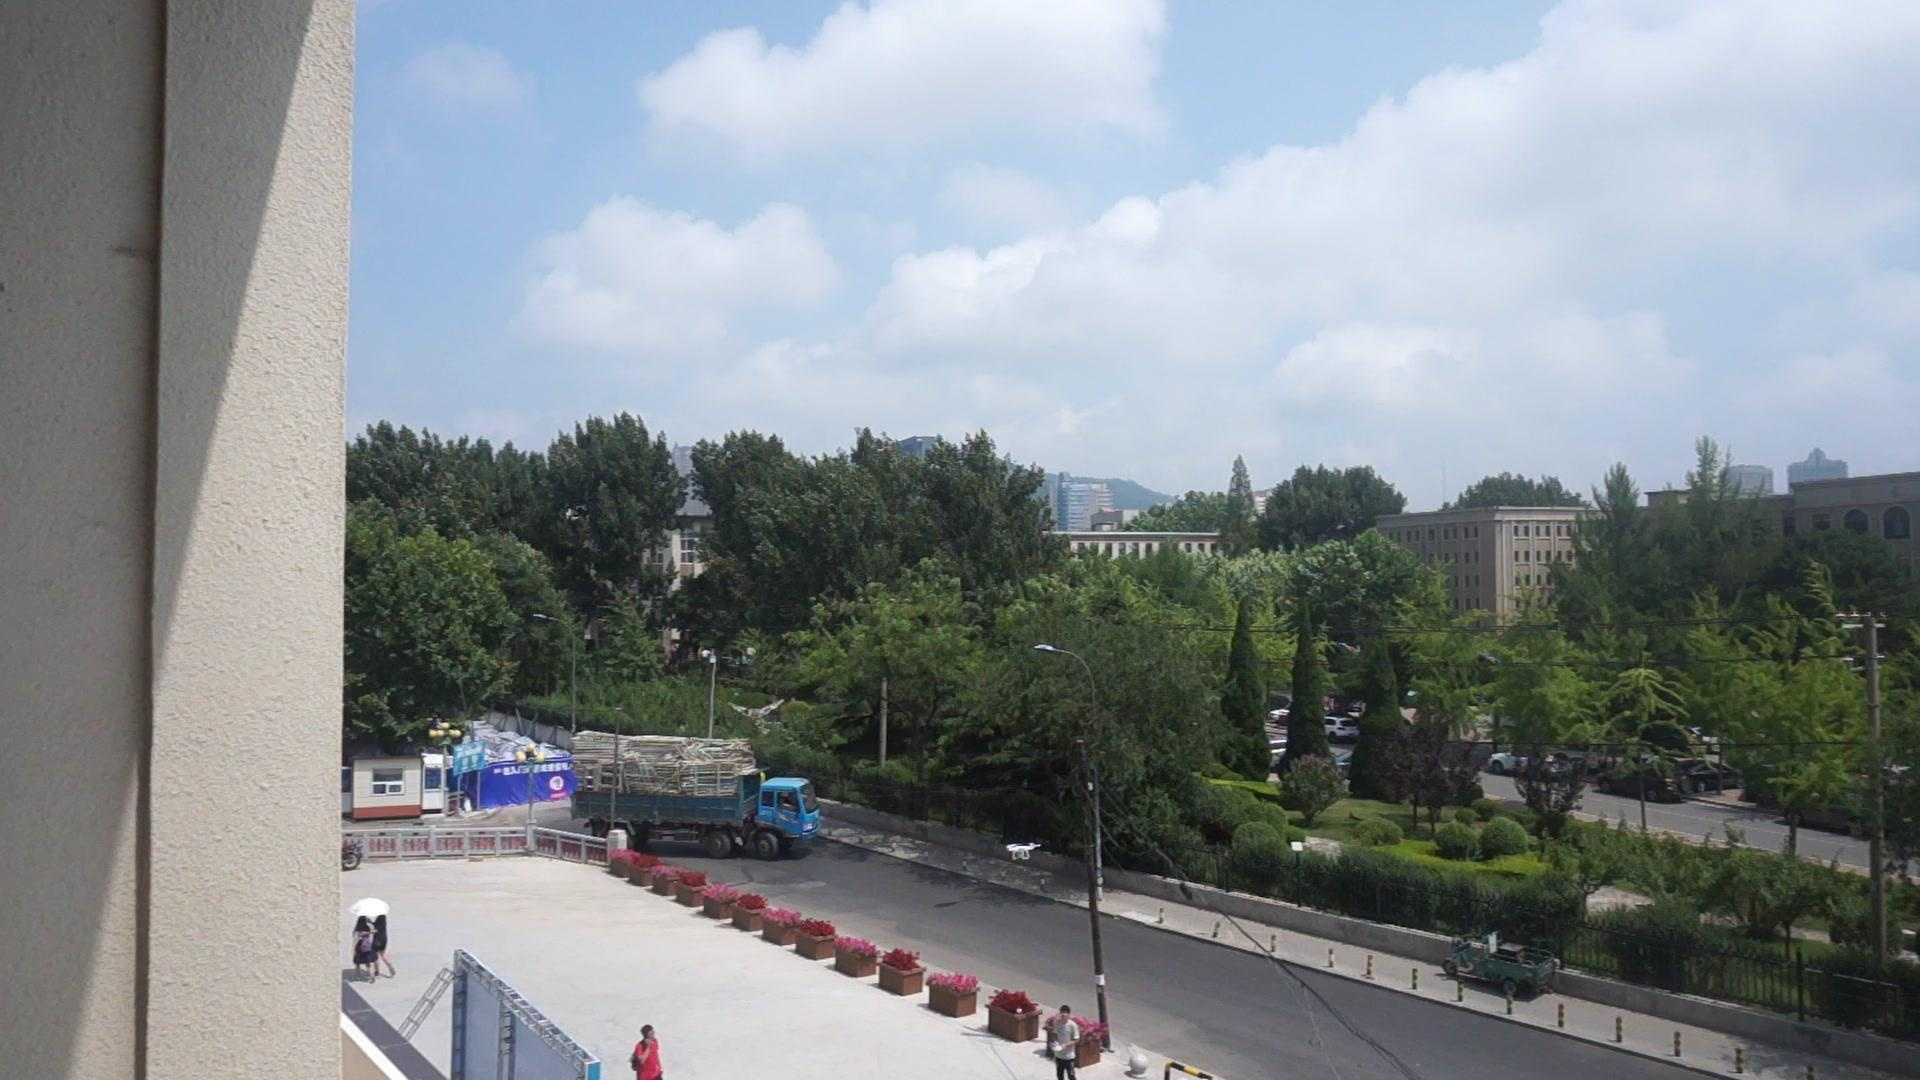UAV: (1006, 843, 1043, 861)
